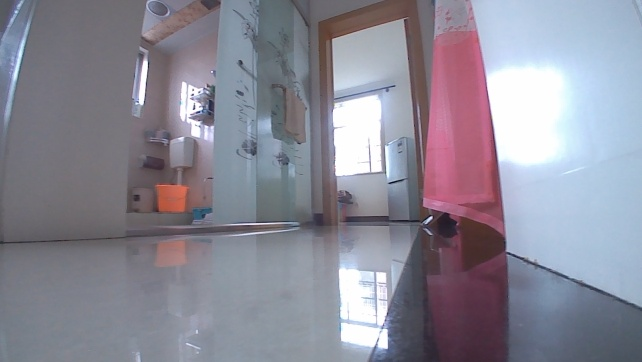refrigerator: (385, 133, 420, 220)
